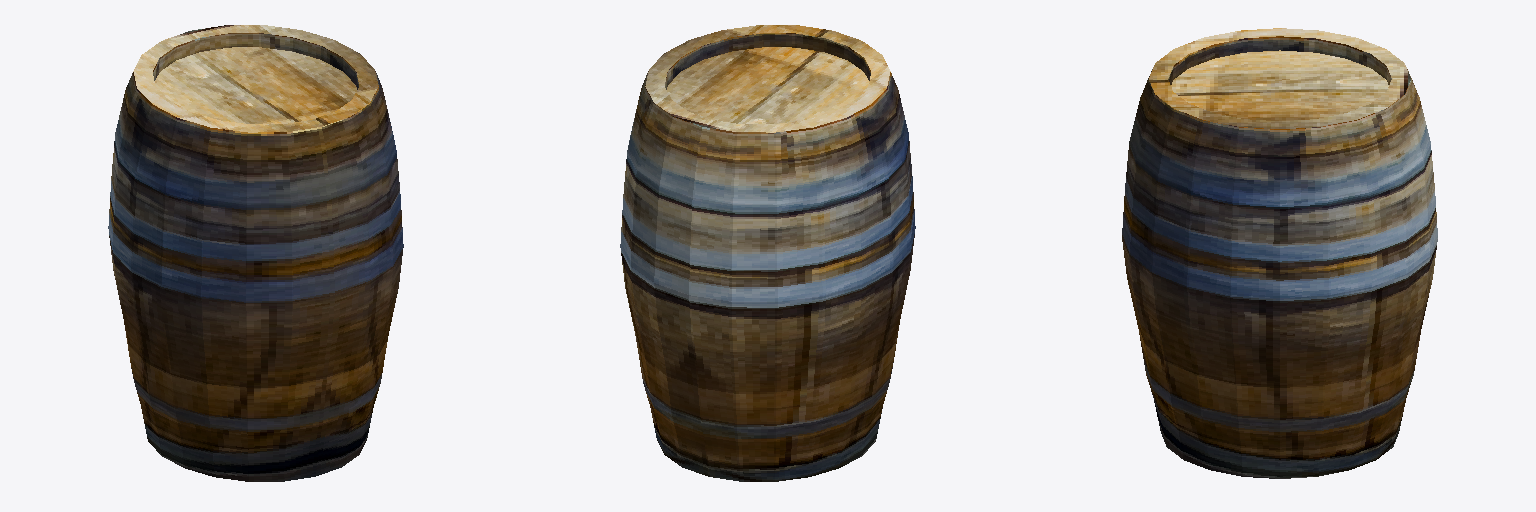
3 renders of one model, left to right at view 1: azimuth 30°, elevation 25°; view 2: azimuth 150°, elevation 25°; view 3: azimuth 270°, elevation 25°, orthographic.
Visible parts, largest first — view 1: barrell; view 2: barrell; view 3: barrell.
Boxes of the visible parts, x1,y1,x2,y2 form: barrell: [108, 25, 403, 481]; barrell: [620, 25, 915, 481]; barrell: [1122, 28, 1437, 478].
Size of the model in its own units: 1.2 by 1.62 by 1.31.
Materials: 1 (1 with a texture image).